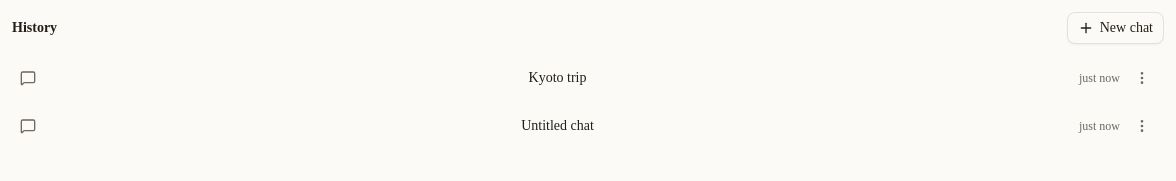
it: ChatHistory › Escape cancels the rename (no PATCH)
Expected: the text "Kyoto trip" is shown, [528,70,586,85]
Step 1. Click the 1st button named "Conversation actions" → (1142, 78), box [1128,64,1156,92]
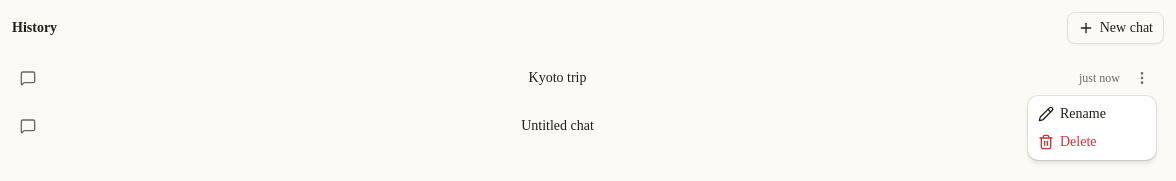
Step 2. Click the menu item "Rename" → (1072, 114), box [1038,106,1106,122]
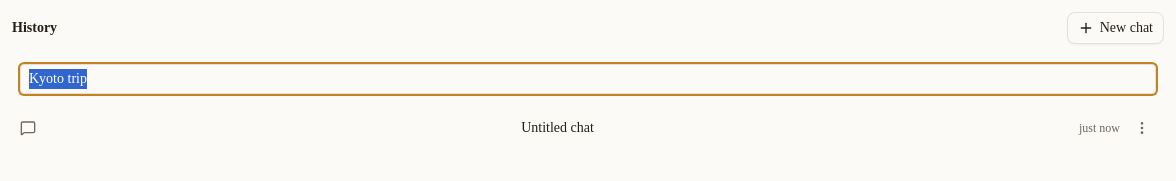
Step 3. Replace the text in the field named "Conversation name" with "Should not be saved" → (588, 79), box [20,64,1156,94]
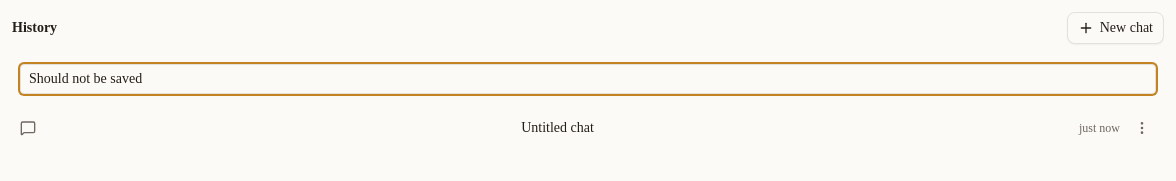
Step 4. Press Escape in the field named "Conversation name", box [20,64,1156,94]
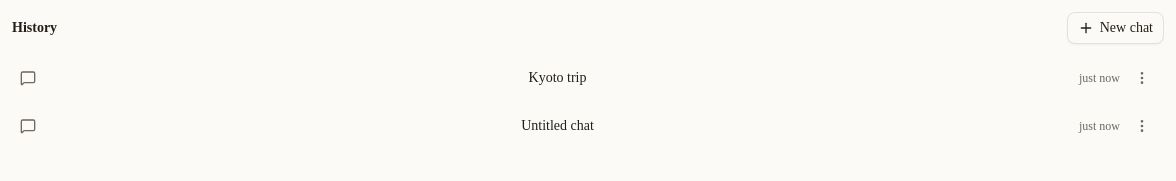
Now the text "Kyoto trip" is shown, box [528,70,586,85]
